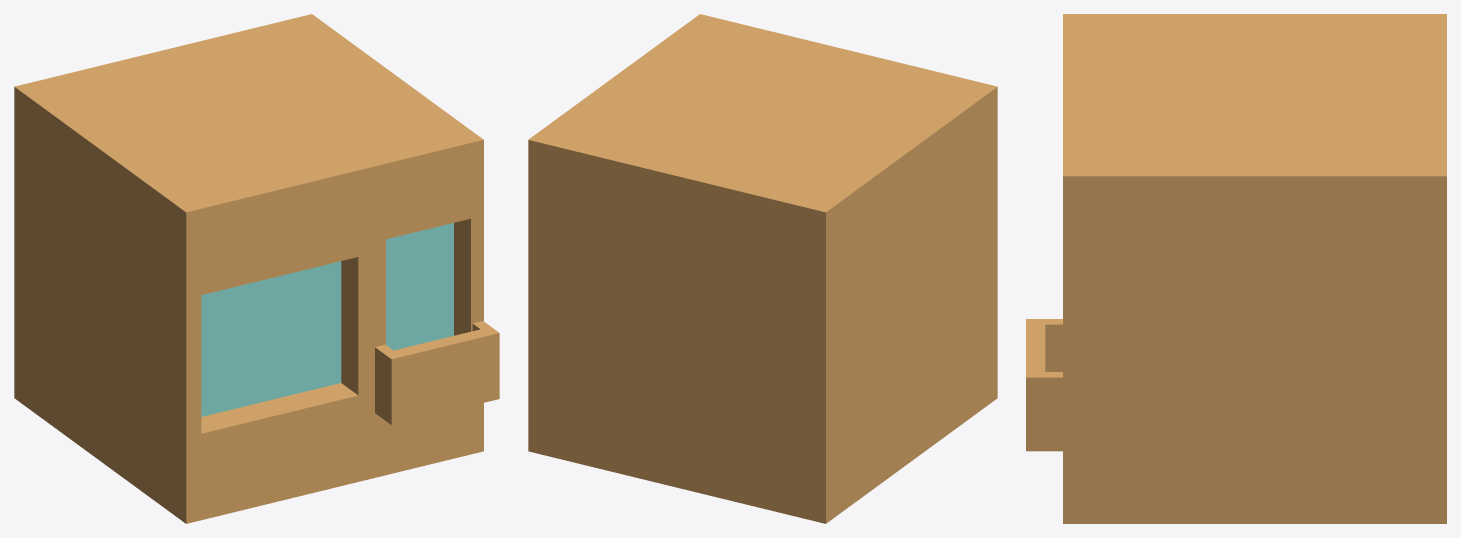
Rendered from buildingsmiddle.fbx.
3 renders of one model, left to right at view 1: azimuth 30°, elevation 25°; view 2: azimuth 150°, elevation 25°; view 3: azimuth 270°, elevation 25°, orthographic. The views are drawn at different scales.
Visible parts, largest first — view 1: middle2; view 2: middle2; view 3: middle2.
Boxes of the visible parts, x1,y1,x2,y2 form: middle2: [14, 14, 499, 523]; middle2: [528, 14, 997, 523]; middle2: [1026, 14, 1446, 523].
Bounding box in the file's own units: 100 × 100 × 110.
